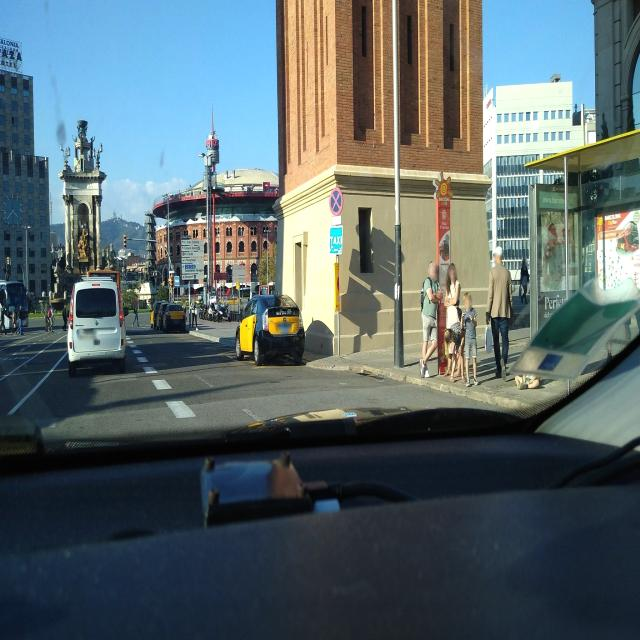car: (67, 272, 126, 376), (234, 292, 306, 366), (162, 301, 187, 333), (150, 300, 168, 330)
